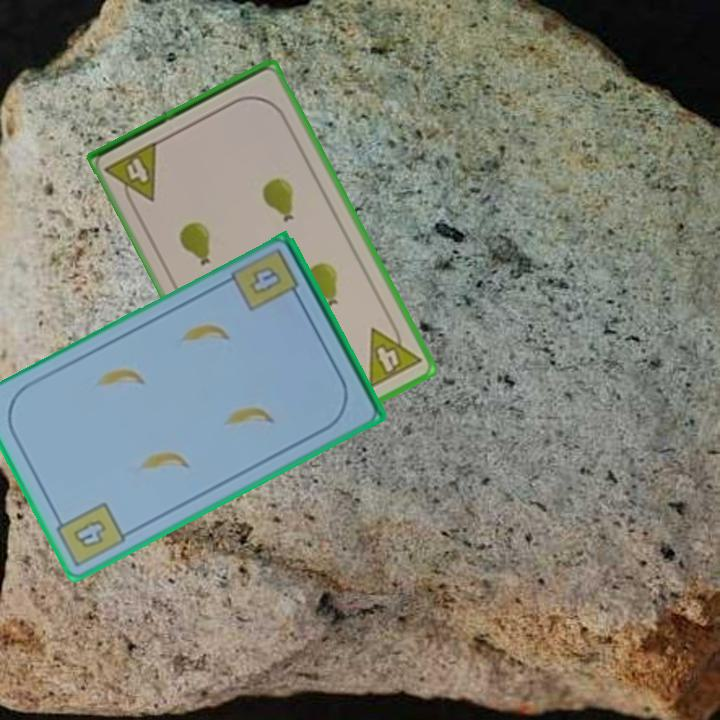4b: (50, 498, 129, 567), (245, 263, 285, 299)
4p: (364, 315, 425, 392), (101, 137, 162, 212)
